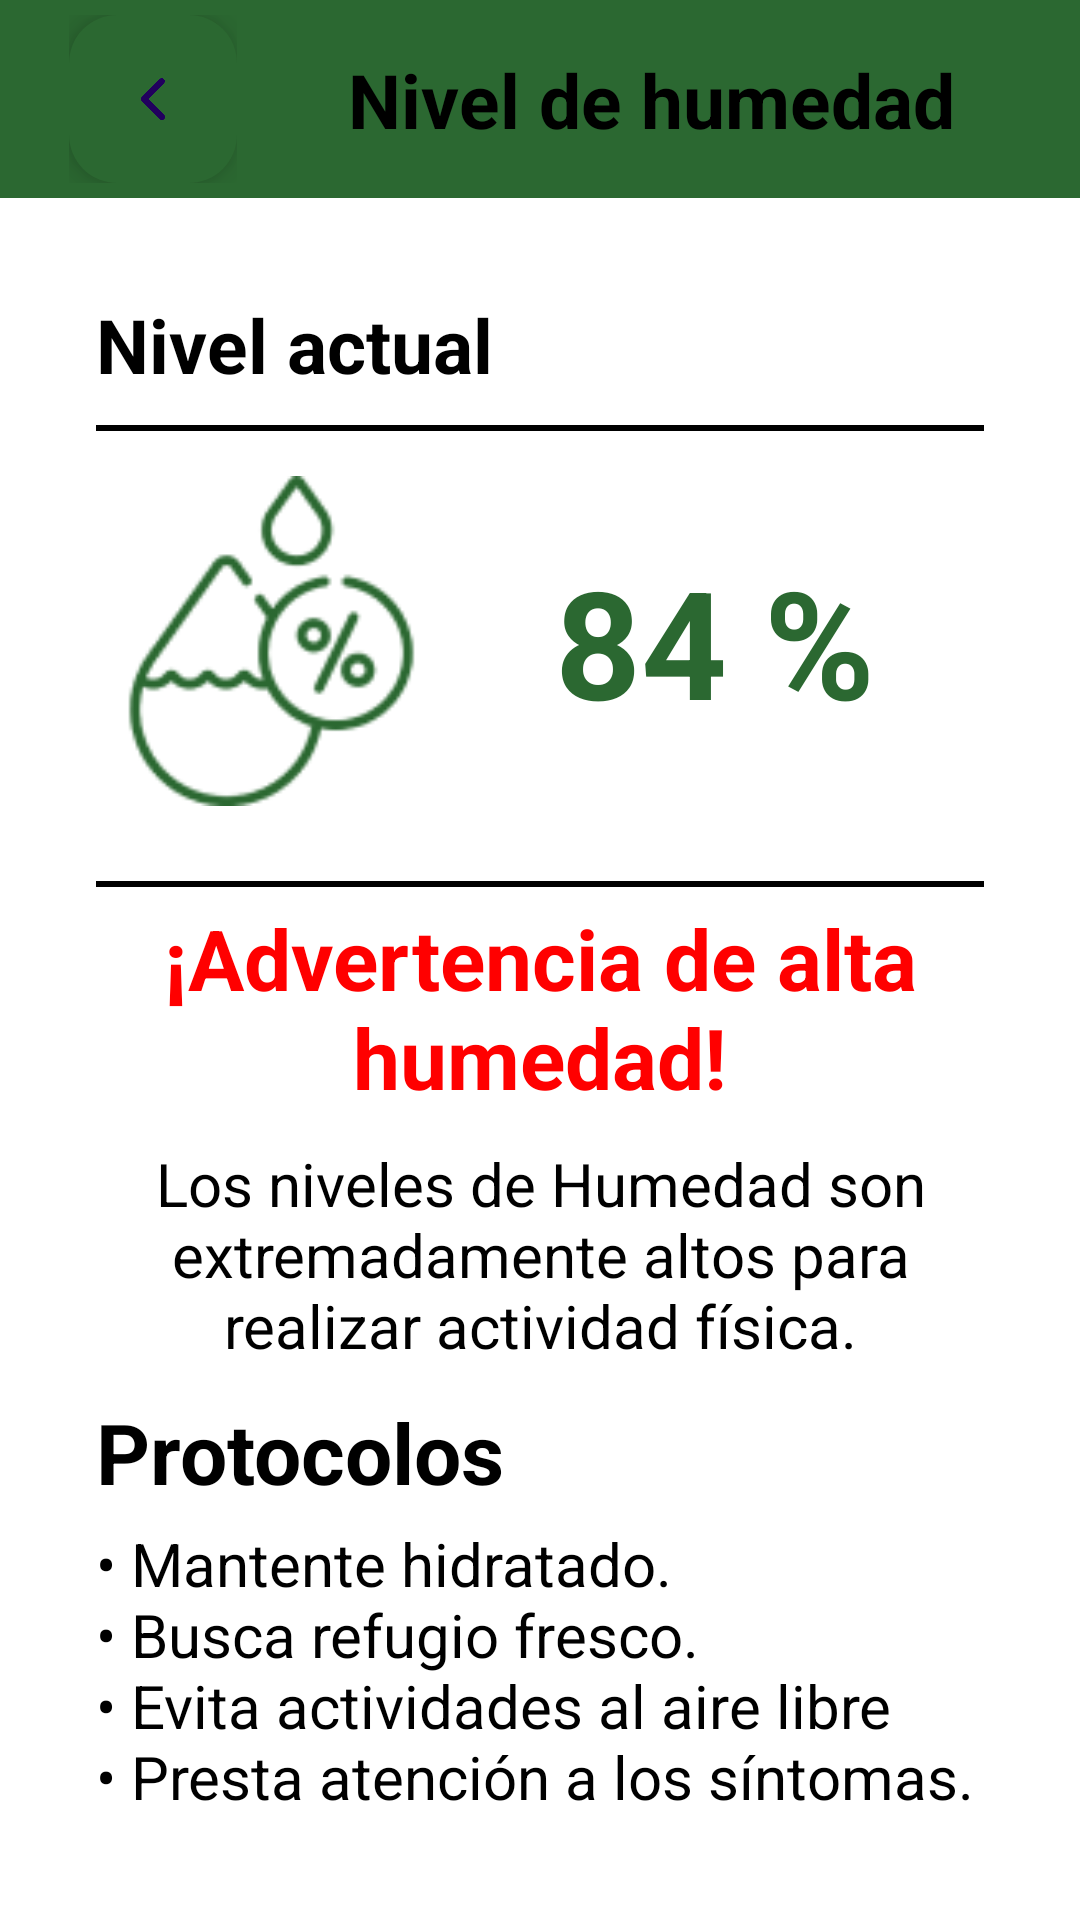

Locate icon controls on the screen. Image size 1080 × 1920, boxes as (x1, y1, x2, y2).
back blanco: (141, 78, 165, 120)
humedadverde: (128, 476, 415, 806)
